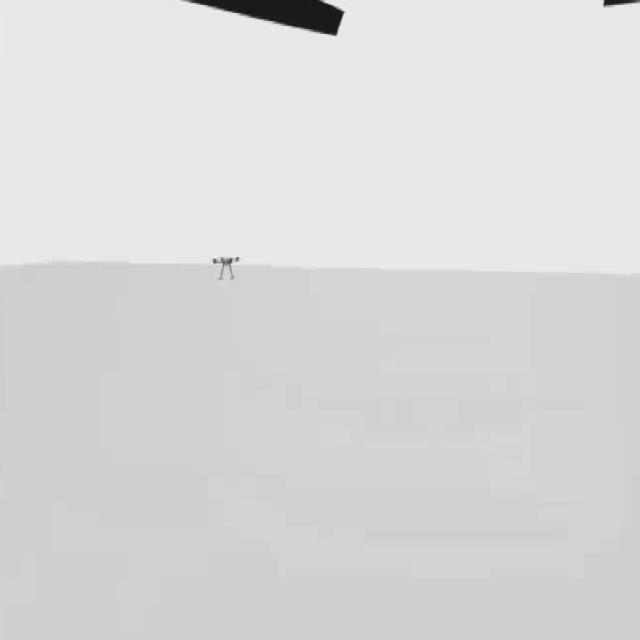drone: (208, 245, 246, 283)
